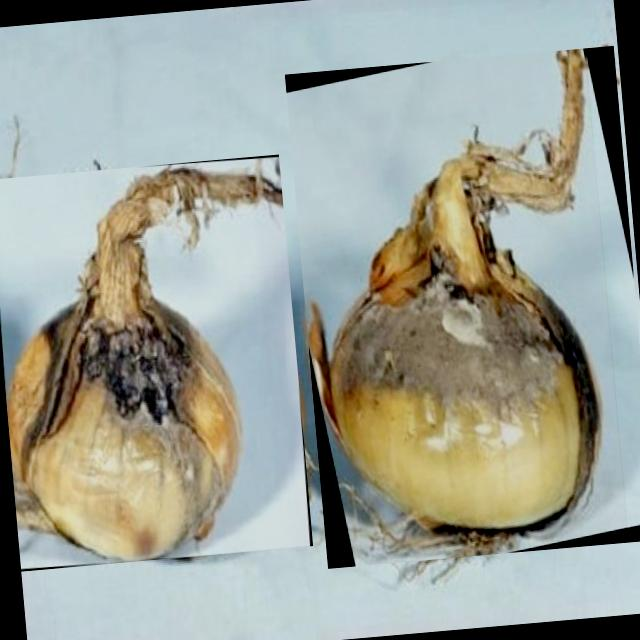rotten: (308, 48, 600, 557), (7, 164, 283, 560)
